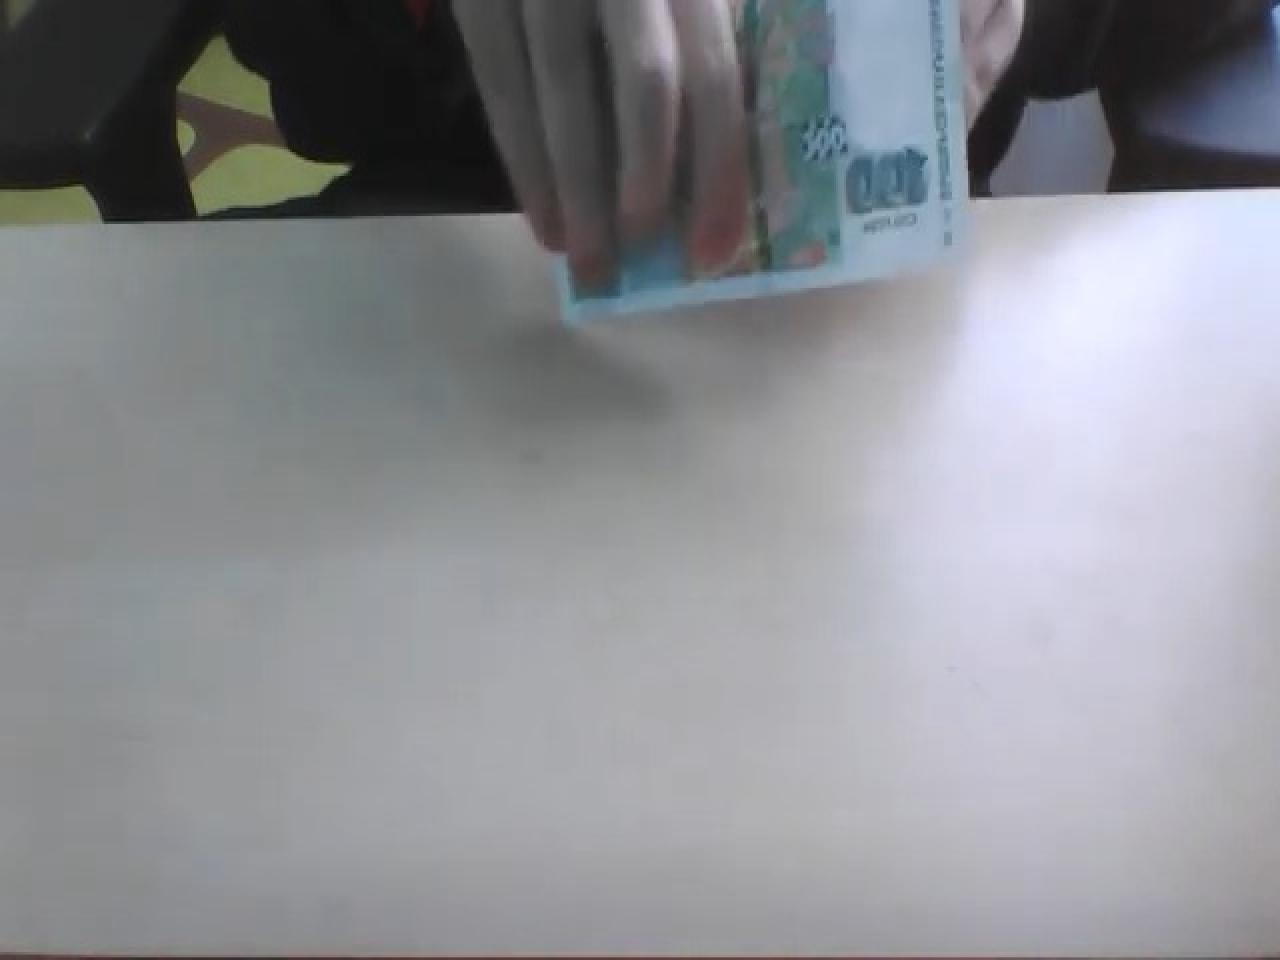100leva: (554, 0, 974, 325), (844, 141, 932, 216)
